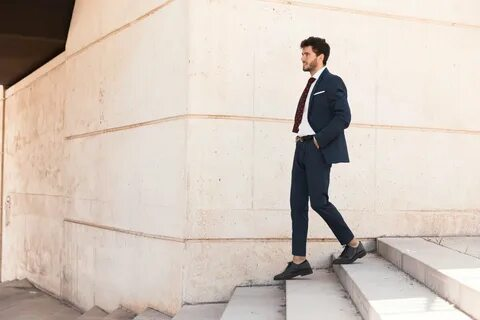awake: (272, 35, 366, 280)
